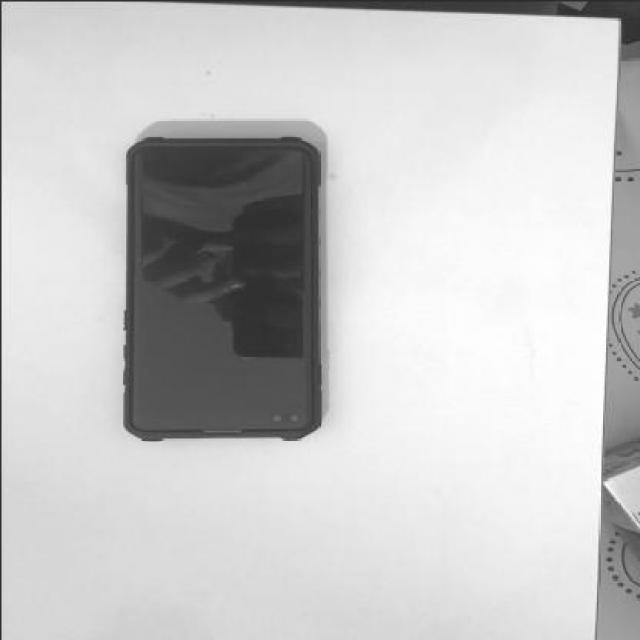fake: (122, 132, 324, 440)
